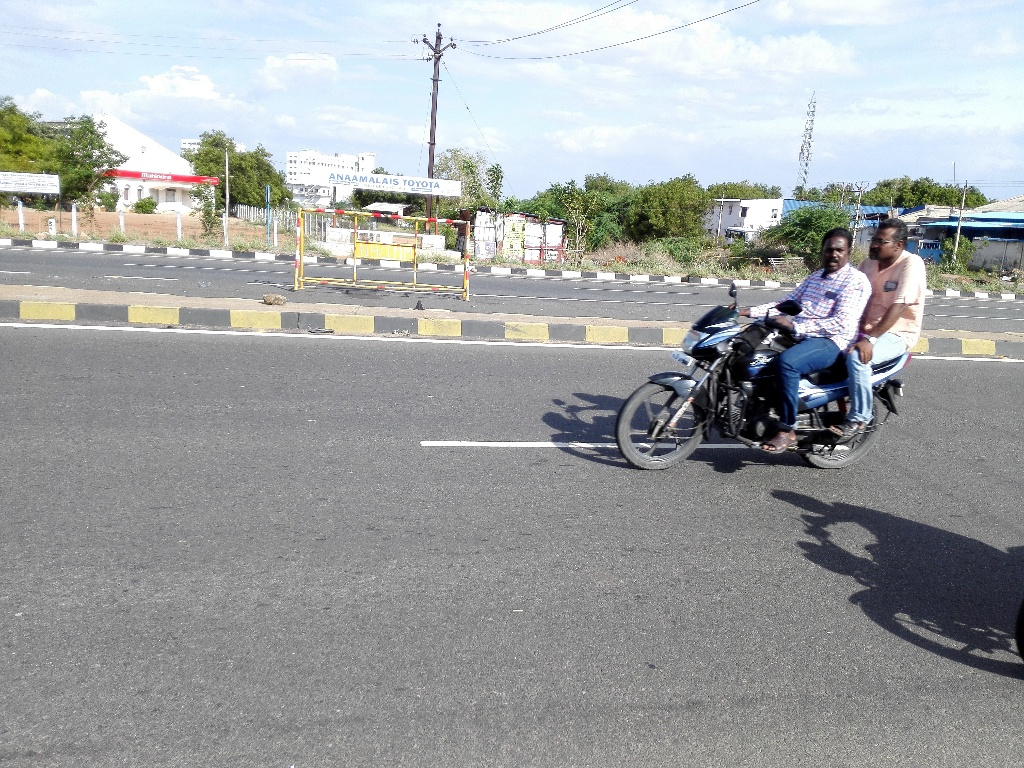biker: (602, 188, 947, 483)
nohelmet: (862, 210, 913, 273), (808, 219, 859, 282)
